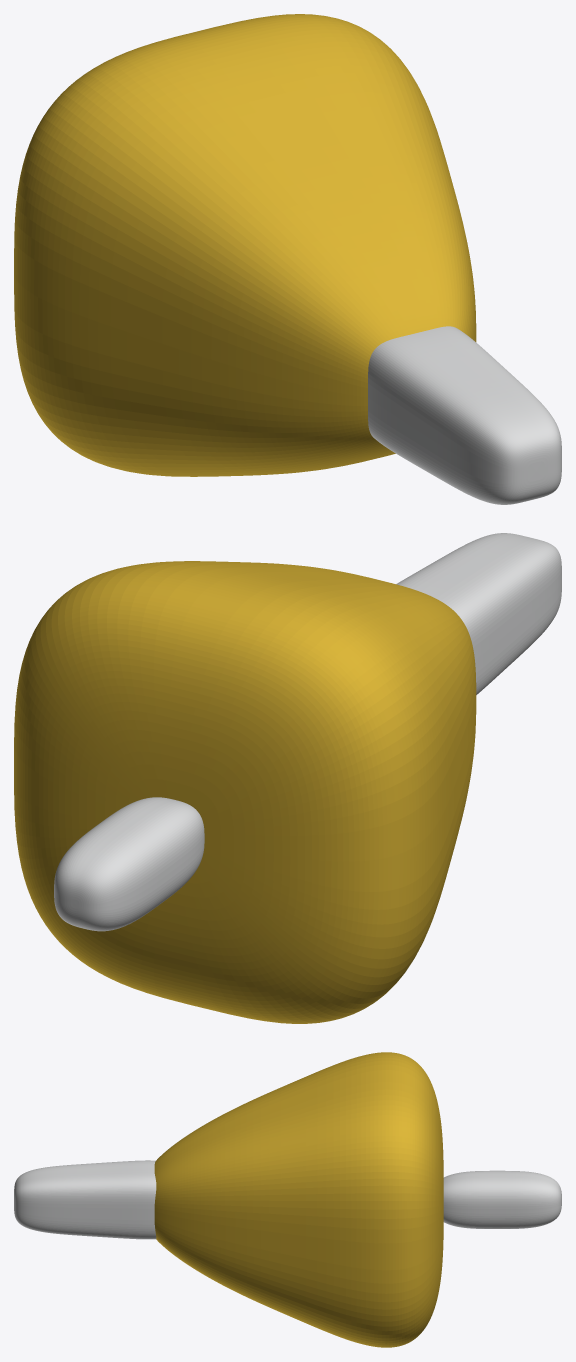
File: brass_hand_bell_sq.glb
3 renders of one model, top to bottom at view 1: azimuth 30°, elevation 25°; view 2: azimuth 150°, elevation 25°; view 3: azimuth 270°, elevation 25°, orthographic. The views are drawn at different scales.
Visible parts, largest first — view 1: superquadric_0, superquadric_1; view 2: superquadric_0, superquadric_2, superquadric_1; view 3: superquadric_0, superquadric_1, superquadric_2.
Part boxes in pixels (x1,y1,x2,y2): superquadric_0: [14, 14, 476, 476]; superquadric_1: [368, 326, 561, 504]; superquadric_0: [14, 561, 476, 1023]; superquadric_2: [54, 797, 204, 931]; superquadric_1: [396, 533, 561, 694]; superquadric_0: [154, 1052, 443, 1347]; superquadric_1: [14, 1160, 156, 1239]; superquadric_2: [443, 1170, 561, 1228].
Size of the model in its own units: 0.4911 by 0.4912 by 1.
